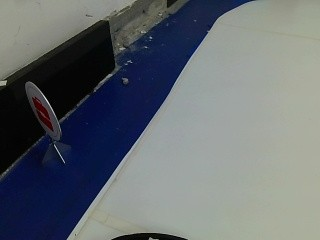company: (23, 78, 64, 144)
